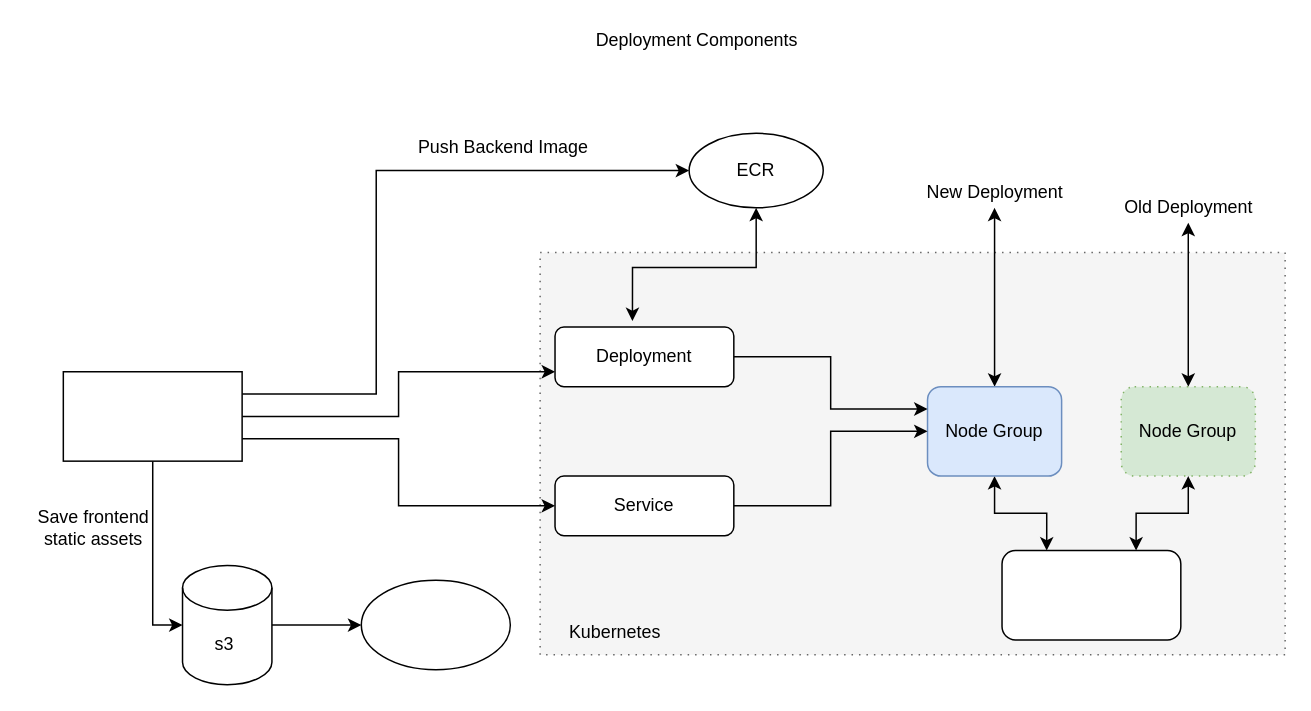
The diagram is 1311 pixels wide and 711 high, and some of its shapes have lost their labels. The box of each missing label's shape, as (x1, y1, x2, y2) in pixels:
Cloudfront: (360, 579, 510, 670)
Code Build: (62, 370, 242, 461)
Master Node: (1001, 549, 1181, 640)
